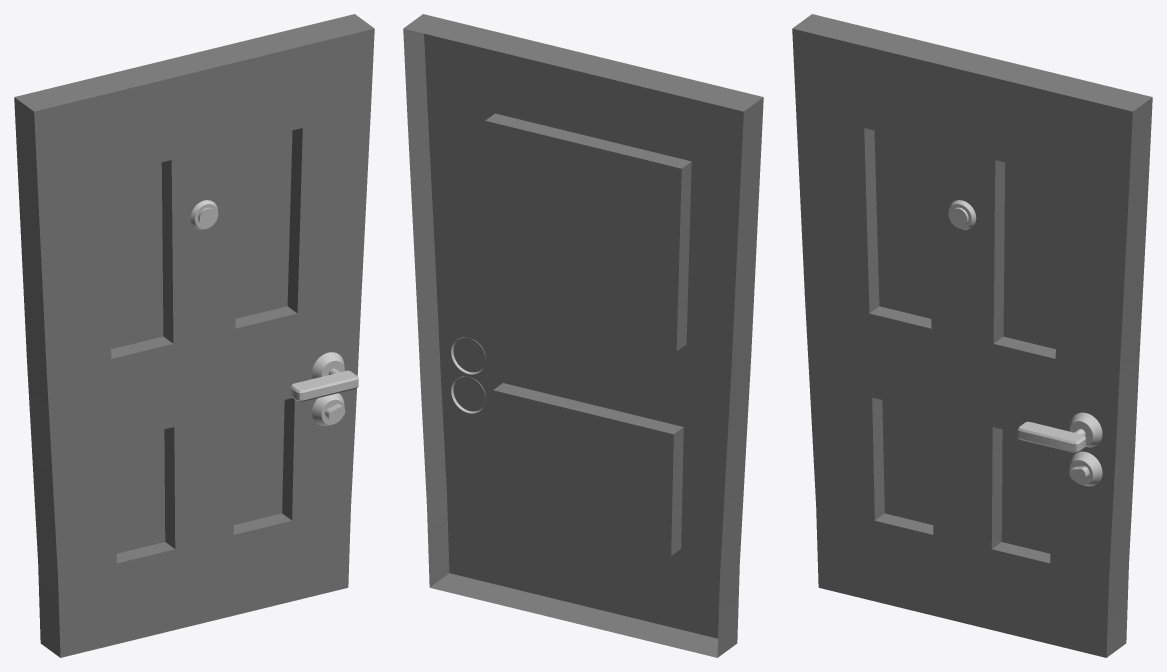
File: Entrance door.fbx
The picture shows the model from 3 angles, left to right: view 1: azimuth 30°, elevation 25°; view 2: azimuth 150°, elevation 25°; view 3: azimuth 330°, elevation 25°; orthographic projection.
Visible parts, largest first — view 1: Entrance door; view 2: Entrance door; view 3: Entrance door.
Part boxes in pixels (bbox=[...]): Entrance door: bbox=[14, 14, 374, 657]; Entrance door: bbox=[403, 14, 763, 657]; Entrance door: bbox=[792, 14, 1152, 657].
Size of the model in its own units: 239 by 371 by 49.28.
